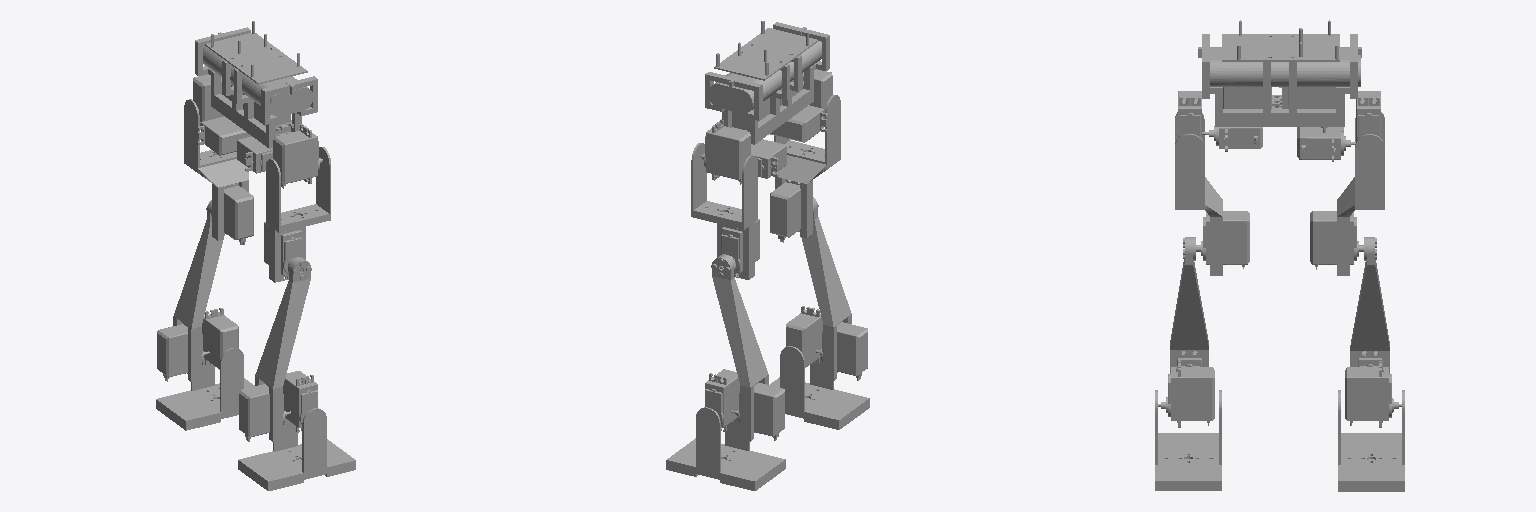
The robot description file, URDF, robot "URDF":
<?xml version="1.0" ?>
<!-- =================================================================================== -->
<!-- |    This document was autogenerated by xacro from urdf/URDF.xacro                | -->
<!-- |    EDITING THIS FILE BY HAND IS NOT RECOMMENDED                                 | -->
<!-- =================================================================================== -->
<robot xmlns:xacro="http://www.ros.org/wiki/xacro" name="URDF">
  <material name="silver">
    <color rgba="0.700 0.700 0.700 1.000"/>
  </material>
  <transmission name="Revolute 46_tran">
    <type>transmission_interface/SimpleTransmission</type>
    <joint name="Revolute 46">
      <hardwareInterface>hardware_interface/EffortJointInterface</hardwareInterface>
    </joint>
    <actuator name="Revolute 46_actr">
      <hardwareInterface>hardware_interface/EffortJointInterface</hardwareInterface>
      <mechanicalReduction>1</mechanicalReduction>
    </actuator>
  </transmission>
  <transmission name="Revolute 54_tran">
    <type>transmission_interface/SimpleTransmission</type>
    <joint name="Revolute 54">
      <hardwareInterface>hardware_interface/EffortJointInterface</hardwareInterface>
    </joint>
    <actuator name="Revolute 54_actr">
      <hardwareInterface>hardware_interface/EffortJointInterface</hardwareInterface>
      <mechanicalReduction>1</mechanicalReduction>
    </actuator>
  </transmission>
  <transmission name="Revolute 66_tran">
    <type>transmission_interface/SimpleTransmission</type>
    <joint name="Revolute 66">
      <hardwareInterface>hardware_interface/EffortJointInterface</hardwareInterface>
    </joint>
    <actuator name="Revolute 66_actr">
      <hardwareInterface>hardware_interface/EffortJointInterface</hardwareInterface>
      <mechanicalReduction>1</mechanicalReduction>
    </actuator>
  </transmission>
  <transmission name="Revolute 67_tran">
    <type>transmission_interface/SimpleTransmission</type>
    <joint name="Revolute 67">
      <hardwareInterface>hardware_interface/EffortJointInterface</hardwareInterface>
    </joint>
    <actuator name="Revolute 67_actr">
      <hardwareInterface>hardware_interface/EffortJointInterface</hardwareInterface>
      <mechanicalReduction>1</mechanicalReduction>
    </actuator>
  </transmission>
  <transmission name="Revolute 68_tran">
    <type>transmission_interface/SimpleTransmission</type>
    <joint name="Revolute 68">
      <hardwareInterface>hardware_interface/EffortJointInterface</hardwareInterface>
    </joint>
    <actuator name="Revolute 68_actr">
      <hardwareInterface>hardware_interface/EffortJointInterface</hardwareInterface>
      <mechanicalReduction>1</mechanicalReduction>
    </actuator>
  </transmission>
  <transmission name="Revolute 69_tran">
    <type>transmission_interface/SimpleTransmission</type>
    <joint name="Revolute 69">
      <hardwareInterface>hardware_interface/EffortJointInterface</hardwareInterface>
    </joint>
    <actuator name="Revolute 69_actr">
      <hardwareInterface>hardware_interface/EffortJointInterface</hardwareInterface>
      <mechanicalReduction>1</mechanicalReduction>
    </actuator>
  </transmission>
  <transmission name="Revolute 70_tran">
    <type>transmission_interface/SimpleTransmission</type>
    <joint name="Revolute 70">
      <hardwareInterface>hardware_interface/EffortJointInterface</hardwareInterface>
    </joint>
    <actuator name="Revolute 70_actr">
      <hardwareInterface>hardware_interface/EffortJointInterface</hardwareInterface>
      <mechanicalReduction>1</mechanicalReduction>
    </actuator>
  </transmission>
  <transmission name="Revolute 71_tran">
    <type>transmission_interface/SimpleTransmission</type>
    <joint name="Revolute 71">
      <hardwareInterface>hardware_interface/EffortJointInterface</hardwareInterface>
    </joint>
    <actuator name="Revolute 71_actr">
      <hardwareInterface>hardware_interface/EffortJointInterface</hardwareInterface>
      <mechanicalReduction>1</mechanicalReduction>
    </actuator>
  </transmission>
  <transmission name="Revolute 72_tran">
    <type>transmission_interface/SimpleTransmission</type>
    <joint name="Revolute 72">
      <hardwareInterface>hardware_interface/EffortJointInterface</hardwareInterface>
    </joint>
    <actuator name="Revolute 72_actr">
      <hardwareInterface>hardware_interface/EffortJointInterface</hardwareInterface>
      <mechanicalReduction>1</mechanicalReduction>
    </actuator>
  </transmission>
  <transmission name="Revolute 73_tran">
    <type>transmission_interface/SimpleTransmission</type>
    <joint name="Revolute 73">
      <hardwareInterface>hardware_interface/EffortJointInterface</hardwareInterface>
    </joint>
    <actuator name="Revolute 73_actr">
      <hardwareInterface>hardware_interface/EffortJointInterface</hardwareInterface>
      <mechanicalReduction>1</mechanicalReduction>
    </actuator>
  </transmission>
  <transmission name="Revolute 90_tran">
    <type>transmission_interface/SimpleTransmission</type>
    <joint name="Revolute 90">
      <hardwareInterface>hardware_interface/EffortJointInterface</hardwareInterface>
    </joint>
    <actuator name="Revolute 90_actr">
      <hardwareInterface>hardware_interface/EffortJointInterface</hardwareInterface>
      <mechanicalReduction>1</mechanicalReduction>
    </actuator>
  </transmission>
  <transmission name="Revolute 91_tran">
    <type>transmission_interface/SimpleTransmission</type>
    <joint name="Revolute 91">
      <hardwareInterface>hardware_interface/EffortJointInterface</hardwareInterface>
    </joint>
    <actuator name="Revolute 91_actr">
      <hardwareInterface>hardware_interface/EffortJointInterface</hardwareInterface>
      <mechanicalReduction>1</mechanicalReduction>
    </actuator>
  </transmission>
  <transmission name="Revolute 92_tran">
    <type>transmission_interface/SimpleTransmission</type>
    <joint name="Revolute 92">
      <hardwareInterface>hardware_interface/EffortJointInterface</hardwareInterface>
    </joint>
    <actuator name="Revolute 92_actr">
      <hardwareInterface>hardware_interface/EffortJointInterface</hardwareInterface>
      <mechanicalReduction>1</mechanicalReduction>
    </actuator>
  </transmission>
  <transmission name="Revolute 93_tran">
    <type>transmission_interface/SimpleTransmission</type>
    <joint name="Revolute 93">
      <hardwareInterface>hardware_interface/EffortJointInterface</hardwareInterface>
    </joint>
    <actuator name="Revolute 93_actr">
      <hardwareInterface>hardware_interface/EffortJointInterface</hardwareInterface>
      <mechanicalReduction>1</mechanicalReduction>
    </actuator>
  </transmission>
  <gazebo>
    <plugin name="control" filename="libgazebo_ros_control.so"/>
  </gazebo>
  <gazebo reference="base_link">
    <material>Gazebo/Silver</material>
    <mu1>0.2</mu1>
    <mu2>0.2</mu2>
    <selfCollide>true</selfCollide>
    <gravity>true</gravity>
  </gazebo>
  <gazebo reference="l3_1">
    <material>Gazebo/Silver</material>
    <mu1>0.2</mu1>
    <mu2>0.2</mu2>
    <selfCollide>true</selfCollide>
  </gazebo>
  <gazebo reference="r3_1">
    <material>Gazebo/Silver</material>
    <mu1>0.2</mu1>
    <mu2>0.2</mu2>
    <selfCollide>true</selfCollide>
  </gazebo>
  <gazebo reference="l4_1">
    <material>Gazebo/Silver</material>
    <mu1>0.2</mu1>
    <mu2>0.2</mu2>
    <selfCollide>true</selfCollide>
  </gazebo>
  <gazebo reference="l5_1">
    <material>Gazebo/Silver</material>
    <mu1>0.2</mu1>
    <mu2>0.2</mu2>
    <selfCollide>true</selfCollide>
  </gazebo>
  <gazebo reference="l6_1">
    <material>Gazebo/Silver</material>
    <mu1>0.2</mu1>
    <mu2>0.2</mu2>
    <selfCollide>true</selfCollide>
  </gazebo>
  <gazebo reference="l7_1">
    <material>Gazebo/Silver</material>
    <mu1>0.2</mu1>
    <mu2>0.2</mu2>
    <selfCollide>true</selfCollide>
  </gazebo>
  <gazebo reference="r4_1">
    <material>Gazebo/Silver</material>
    <mu1>0.2</mu1>
    <mu2>0.2</mu2>
    <selfCollide>true</selfCollide>
  </gazebo>
  <gazebo reference="r5_1">
    <material>Gazebo/Silver</material>
    <mu1>0.2</mu1>
    <mu2>0.2</mu2>
    <selfCollide>true</selfCollide>
  </gazebo>
  <gazebo reference="r6_1">
    <material>Gazebo/Silver</material>
    <mu1>0.2</mu1>
    <mu2>0.2</mu2>
    <selfCollide>true</selfCollide>
  </gazebo>
  <gazebo reference="r7_1">
    <material>Gazebo/Silver</material>
    <mu1>0.2</mu1>
    <mu2>0.2</mu2>
    <selfCollide>true</selfCollide>
  </gazebo>
  <gazebo reference="r1_1">
    <material>Gazebo/Silver</material>
    <mu1>0.2</mu1>
    <mu2>0.2</mu2>
    <selfCollide>true</selfCollide>
  </gazebo>
  <gazebo reference="l1_1">
    <material>Gazebo/Silver</material>
    <mu1>0.2</mu1>
    <mu2>0.2</mu2>
    <selfCollide>true</selfCollide>
  </gazebo>
  <gazebo reference="l2_1">
    <material>Gazebo/Silver</material>
    <mu1>0.2</mu1>
    <mu2>0.2</mu2>
    <selfCollide>true</selfCollide>
  </gazebo>
  <gazebo reference="r2_1">
    <material>Gazebo/Silver</material>
    <mu1>0.2</mu1>
    <mu2>0.2</mu2>
    <selfCollide>true</selfCollide>
  </gazebo>
  <link name="base_link">
    <inertial>
      <origin xyz="-0.011771950657531978 0.009504064144813888 0.36652745045672347" rpy="0 0 0"/>
      <mass value="1.511497628813241"/>
      <inertia ixx="0.002624" iyy="0.000685" izz="0.00252" ixy="-0.0" iyz="-1e-05" ixz="-1e-06"/>
    </inertial>
    <visual>
      <origin xyz="0 0 0" rpy="0 0 0"/>
      <geometry>
        <mesh filename="package://URDF_description/meshes/base_link.stl" scale="0.001 0.001 0.001"/>
      </geometry>
      <material name="silver"/>
    </visual>
    <collision>
      <origin xyz="0 0 0" rpy="0 0 0"/>
      <geometry>
        <mesh filename="package://URDF_description/meshes/base_link.stl" scale="0.001 0.001 0.001"/>
      </geometry>
    </collision>
  </link>
  <link name="l3_1">
    <inertial>
      <origin xyz="-0.0010554319034483655 -0.010177955025813722 0.0099605153071331" rpy="0 0 0"/>
      <mass value="0.2605710862815951"/>
      <inertia ixx="4.6e-05" iyy="7.1e-05" izz="4.2e-05" ixy="0.0" iyz="-0.0" ixz="1e-06"/>
    </inertial>
    <visual>
      <origin xyz="0.01125 0.056859 -0.300753" rpy="0 0 0"/>
      <geometry>
        <mesh filename="package://URDF_description/meshes/l3_1.stl" scale="0.001 0.001 0.001"/>
      </geometry>
      <material name="silver"/>
    </visual>
    <collision>
      <origin xyz="0.01125 0.056859 -0.300753" rpy="0 0 0"/>
      <geometry>
        <mesh filename="package://URDF_description/meshes/l3_1.stl" scale="0.001 0.001 0.001"/>
      </geometry>
    </collision>
  </link>
  <link name="r3_1">
    <inertial>
      <origin xyz="-0.0013721079730043672 0.010183257082741967 0.009960041415219167" rpy="0 0 0"/>
      <mass value="0.26058347817133687"/>
      <inertia ixx="4.6e-05" iyy="7.1e-05" izz="4.2e-05" ixy="-0.0" iyz="0.0" ixz="1e-06"/>
    </inertial>
    <visual>
      <origin xyz="0.010932 -0.07264 -0.300746" rpy="0 0 0"/>
      <geometry>
        <mesh filename="package://URDF_description/meshes/r3_1.stl" scale="0.001 0.001 0.001"/>
      </geometry>
      <material name="silver"/>
    </visual>
    <collision>
      <origin xyz="0.010932 -0.07264 -0.300746" rpy="0 0 0"/>
      <geometry>
        <mesh filename="package://URDF_description/meshes/r3_1.stl" scale="0.001 0.001 0.001"/>
      </geometry>
    </collision>
  </link>
  <link name="l4_1">
    <inertial>
      <origin xyz="-0.025108010465582926 0.020534482343403035 -0.07938553469074466" rpy="0 0 0"/>
      <mass value="0.4795683297989441"/>
      <inertia ixx="0.0005" iyy="0.000461" izz="0.000198" ixy="-3e-06" iyz="0.000142" ixz="6e-06"/>
    </inertial>
    <visual>
      <origin xyz="-0.015754 0.067037 -0.300753" rpy="0 0 0"/>
      <geometry>
        <mesh filename="package://URDF_description/meshes/l4_1.stl" scale="0.001 0.001 0.001"/>
      </geometry>
      <material name="silver"/>
    </visual>
    <collision>
      <origin xyz="-0.015754 0.067037 -0.300753" rpy="0 0 0"/>
      <geometry>
        <mesh filename="package://URDF_description/meshes/l4_1.stl" scale="0.001 0.001 0.001"/>
      </geometry>
    </collision>
  </link>
  <link name="l5_1">
    <inertial>
      <origin xyz="-0.029491082579912755 0.0039567541577458926 -0.1016008471361324" rpy="0 0 0"/>
      <mass value="0.5723786894338777"/>
      <inertia ixx="0.001158" iyy="0.001268" izz="0.00017" ixy="1e-06" iyz="2e-06" ixz="-0.000323"/>
    </inertial>
    <visual>
      <origin xyz="0.009024 0.071577 -0.195159" rpy="0 0 0"/>
      <geometry>
        <mesh filename="package://URDF_description/meshes/l5_1.stl" scale="0.001 0.001 0.001"/>
      </geometry>
      <material name="silver"/>
    </visual>
    <collision>
      <origin xyz="0.009024 0.071577 -0.195159" rpy="0 0 0"/>
      <geometry>
        <mesh filename="package://URDF_description/meshes/l5_1.stl" scale="0.001 0.001 0.001"/>
      </geometry>
    </collision>
  </link>
  <link name="l6_1">
    <inertial>
      <origin xyz="0.010148909868078046 0.0014454123231728566 0.009960061611517447" rpy="0 0 0"/>
      <mass value="0.260583085238151"/>
      <inertia ixx="7.1e-05" iyy="4.6e-05" izz="4.2e-05" ixy="0.0" iyz="-1e-06" ixz="0.0"/>
    </inertial>
    <visual>
      <origin xyz="0.018503 0.067568 -0.050454" rpy="0 0 0"/>
      <geometry>
        <mesh filename="package://URDF_description/meshes/l6_1.stl" scale="0.001 0.001 0.001"/>
      </geometry>
      <material name="silver"/>
    </visual>
    <collision>
      <origin xyz="0.018503 0.067568 -0.050454" rpy="0 0 0"/>
      <geometry>
        <mesh filename="package://URDF_description/meshes/l6_1.stl" scale="0.001 0.001 0.001"/>
      </geometry>
    </collision>
  </link>
  <link name="l7_1">
    <inertial>
      <origin xyz="-0.0038360250370360807 0.0260878632088187 -0.050533848086451186" rpy="0 0 0"/>
      <mass value="0.42535185084301863"/>
      <inertia ixx="0.000201" iyy="0.000374" izz="0.000441" ixy="-0.0" iyz="-0.0" ixz="-5e-06"/>
    </inertial>
    <visual>
      <origin xyz="0.008354 0.094498 -0.050454" rpy="0 0 0"/>
      <geometry>
        <mesh filename="package://URDF_description/meshes/l7_1.stl" scale="0.001 0.001 0.001"/>
      </geometry>
      <material name="silver"/>
    </visual>
    <collision>
      <origin xyz="0.008354 0.094498 -0.050454" rpy="0 0 0"/>
      <geometry>
        <mesh filename="package://URDF_description/meshes/l7_1.stl" scale="0.001 0.001 0.001"/>
      </geometry>
    </collision>
  </link>
  <link name="r4_1">
    <inertial>
      <origin xyz="-0.025086134509350884 -0.019584458432278365 -0.07938591030825276" rpy="0 0 0"/>
      <mass value="0.4795660415586759"/>
      <inertia ixx="0.0005" iyy="0.000461" izz="0.000198" ixy="3e-06" iyz="-0.000142" ixz="6e-06"/>
    </inertial>
    <visual>
      <origin xyz="-0.016072 -0.082823 -0.300746" rpy="0 0 0"/>
      <geometry>
        <mesh filename="package://URDF_description/meshes/r4_1.stl" scale="0.001 0.001 0.001"/>
      </geometry>
      <material name="silver"/>
    </visual>
    <collision>
      <origin xyz="-0.016072 -0.082823 -0.300746" rpy="0 0 0"/>
      <geometry>
        <mesh filename="package://URDF_description/meshes/r4_1.stl" scale="0.001 0.001 0.001"/>
      </geometry>
    </collision>
  </link>
  <link name="r5_1">
    <inertial>
      <origin xyz="-0.029491076838213486 -0.003956632577475125 -0.10160079326267875" rpy="0 0 0"/>
      <mass value="0.5723780660401575"/>
      <inertia ixx="0.001158" iyy="0.001268" izz="0.00017" ixy="-1e-06" iyz="-2e-06" ixz="-0.000323"/>
    </inertial>
    <visual>
      <origin xyz="0.008684 -0.088313 -0.195152" rpy="0 0 0"/>
      <geometry>
        <mesh filename="package://URDF_description/meshes/r5_1.stl" scale="0.001 0.001 0.001"/>
      </geometry>
      <material name="silver"/>
    </visual>
    <collision>
      <origin xyz="0.008684 -0.088313 -0.195152" rpy="0 0 0"/>
      <geometry>
        <mesh filename="package://URDF_description/meshes/r5_1.stl" scale="0.001 0.001 0.001"/>
      </geometry>
    </collision>
  </link>
  <link name="r6_1">
    <inertial>
      <origin xyz="0.010216801636088587 -0.0014452836669609503 0.009959962708194117" rpy="0 0 0"/>
      <mass value="0.26058568857338693"/>
      <inertia ixx="7.1e-05" iyy="4.6e-05" izz="4.2e-05" ixy="-0.0" iyz="1e-06" ixz="0.0"/>
    </inertial>
    <visual>
      <origin xyz="0.018163 -0.084304 -0.050447" rpy="0 0 0"/>
      <geometry>
        <mesh filename="package://URDF_description/meshes/r6_1.stl" scale="0.001 0.001 0.001"/>
      </geometry>
      <material name="silver"/>
    </visual>
    <collision>
      <origin xyz="0.018163 -0.084304 -0.050447" rpy="0 0 0"/>
      <geometry>
        <mesh filename="package://URDF_description/meshes/r6_1.stl" scale="0.001 0.001 0.001"/>
      </geometry>
    </collision>
  </link>
  <link name="r7_1">
    <inertial>
      <origin xyz="-0.003836011886673152 -0.025999620351597932 -0.050533600876661144" rpy="0 0 0"/>
      <mass value="0.42535393165731183"/>
      <inertia ixx="0.000201" iyy="0.000374" izz="0.000441" ixy="0.0" iyz="0.0" ixz="-5e-06"/>
    </inertial>
    <visual>
      <origin xyz="0.007946 -0.111234 -0.050447" rpy="0 0 0"/>
      <geometry>
        <mesh filename="package://URDF_description/meshes/r7_1.stl" scale="0.001 0.001 0.001"/>
      </geometry>
      <material name="silver"/>
    </visual>
    <collision>
      <origin xyz="0.007946 -0.111234 -0.050447" rpy="0 0 0"/>
      <geometry>
        <mesh filename="package://URDF_description/meshes/r7_1.stl" scale="0.001 0.001 0.001"/>
      </geometry>
    </collision>
  </link>
  <link name="r1_1">
    <inertial>
      <origin xyz="0.0004996878831269973 0.02734500634448242 0.00896780014474241" rpy="0 0 0"/>
      <mass value="0.260645951134301"/>
      <inertia ixx="7.1e-05" iyy="4.2e-05" izz="4.6e-05" ixy="0.0" iyz="1e-06" ixz="0.0"/>
    </inertial>
    <visual>
      <origin xyz="0.011804 -0.008368 -0.332395" rpy="0 0 0"/>
      <geometry>
        <mesh filename="package://URDF_description/meshes/r1_1.stl" scale="0.001 0.001 0.001"/>
      </geometry>
      <material name="silver"/>
    </visual>
    <collision>
      <origin xyz="0.011804 -0.008368 -0.332395" rpy="0 0 0"/>
      <geometry>
        <mesh filename="package://URDF_description/meshes/r1_1.stl" scale="0.001 0.001 0.001"/>
      </geometry>
    </collision>
  </link>
  <link name="l1_1">
    <inertial>
      <origin xyz="0.0001816438125570169 -0.0273436447861984 0.008967326406254417" rpy="0 0 0"/>
      <mass value="0.260658112795213"/>
      <inertia ixx="7.1e-05" iyy="4.2e-05" izz="4.6e-05" ixy="-0.0" iyz="-1e-06" ixz="0.0"/>
    </inertial>
    <visual>
      <origin xyz="0.011804 -0.008368 -0.332395" rpy="0 0 0"/>
      <geometry>
        <mesh filename="package://URDF_description/meshes/l1_1.stl" scale="0.001 0.001 0.001"/>
      </geometry>
      <material name="silver"/>
    </visual>
    <collision>
      <origin xyz="0.011804 -0.008368 -0.332395" rpy="0 0 0"/>
      <geometry>
        <mesh filename="package://URDF_description/meshes/l1_1.stl" scale="0.001 0.001 0.001"/>
      </geometry>
    </collision>
  </link>
  <link name="l2_1">
    <inertial>
      <origin xyz="-0.009584482225170093 0.002892011357412988 -0.010242130854528853" rpy="0 0 0"/>
      <mass value="0.2606766909017712"/>
      <inertia ixx="4.2e-05" iyy="4.6e-05" izz="7.1e-05" ixy="1e-06" iyz="-0.0" ixz="0.0"/>
    </inertial>
    <visual>
      <origin xyz="0.011622 0.028932 -0.310995" rpy="0 0 0"/>
      <geometry>
        <mesh filename="package://URDF_description/meshes/l2_1.stl" scale="0.001 0.001 0.001"/>
      </geometry>
      <material name="silver"/>
    </visual>
    <collision>
      <origin xyz="0.011622 0.028932 -0.310995" rpy="0 0 0"/>
      <geometry>
        <mesh filename="package://URDF_description/meshes/l2_1.stl" scale="0.001 0.001 0.001"/>
      </geometry>
    </collision>
  </link>
  <link name="r2_1">
    <inertial>
      <origin xyz="-0.00958582114085108 -0.0028961550072031106 -0.010249054751743758" rpy="0 0 0"/>
      <mass value="0.2606418768017664"/>
      <inertia ixx="4.2e-05" iyy="4.6e-05" izz="7.1e-05" ixy="-1e-06" iyz="0.0" ixz="0.0"/>
    </inertial>
    <visual>
      <origin xyz="0.011304 -0.045668 -0.310995" rpy="0 0 0"/>
      <geometry>
        <mesh filename="package://URDF_description/meshes/r2_1.stl" scale="0.001 0.001 0.001"/>
      </geometry>
      <material name="silver"/>
    </visual>
    <collision>
      <origin xyz="0.011304 -0.045668 -0.310995" rpy="0 0 0"/>
      <geometry>
        <mesh filename="package://URDF_description/meshes/r2_1.stl" scale="0.001 0.001 0.001"/>
      </geometry>
    </collision>
  </link>
  <joint name="Revolute 46" type="continuous">
    <origin xyz="0.000372 -0.027927 -0.010242" rpy="0 0 0"/>
    <parent link="l2_1"/>
    <child link="l3_1"/>
    <axis xyz="-0.0 -1.0 -0.0"/>
  </joint>
  <joint name="Revolute 54" type="continuous">
    <origin xyz="0.000372 0.026972 -0.010249" rpy="0 0 0"/>
    <parent link="r2_1"/>
    <child link="r3_1"/>
    <axis xyz="-0.0 1.0 0.0"/>
  </joint>
  <joint name="Revolute 66" type="continuous">
    <origin xyz="0.027004 -0.010178 0.0" rpy="0 0 0"/>
    <parent link="l3_1"/>
    <child link="l4_1"/>
    <axis xyz="1.0 0.0 -0.0"/>
  </joint>
  <joint name="Revolute 67" type="continuous">
    <origin xyz="-0.024778 -0.00454 -0.105594" rpy="0 0 0"/>
    <parent link="l4_1"/>
    <child link="l5_1"/>
    <axis xyz="-0.0 -1.0 -0.0"/>
  </joint>
  <joint name="Revolute 68" type="continuous">
    <origin xyz="-0.009479 0.004009 -0.144705" rpy="0 0 0"/>
    <parent link="l5_1"/>
    <child link="l6_1"/>
    <axis xyz="1.0 0.0 0.0"/>
  </joint>
  <joint name="Revolute 69" type="continuous">
    <origin xyz="0.010149 -0.02693 0.0" rpy="0 0 0"/>
    <parent link="l6_1"/>
    <child link="l7_1"/>
    <axis xyz="0.0 -1.0 -0.0"/>
  </joint>
  <joint name="Revolute 70" type="continuous">
    <origin xyz="0.027004 0.010183 0.0" rpy="0 0 0"/>
    <parent link="r3_1"/>
    <child link="r4_1"/>
    <axis xyz="1.0 0.0 -0.0"/>
  </joint>
  <joint name="Revolute 71" type="continuous">
    <origin xyz="-0.024756 0.00549 -0.105594" rpy="0 0 0"/>
    <parent link="r4_1"/>
    <child link="r5_1"/>
    <axis xyz="-0.0 1.0 0.0"/>
  </joint>
  <joint name="Revolute 72" type="continuous">
    <origin xyz="-0.009479 -0.004009 -0.144705" rpy="0 0 0"/>
    <parent link="r5_1"/>
    <child link="r6_1"/>
    <axis xyz="1.0 0.0 -0.0"/>
  </joint>
  <joint name="Revolute 73" type="continuous">
    <origin xyz="0.010217 0.02693 0.0" rpy="0 0 0"/>
    <parent link="r6_1"/>
    <child link="r7_1"/>
    <axis xyz="-0.0 1.0 0.0"/>
  </joint>
  <joint name="Revolute 90" type="continuous">
    <origin xyz="-0.011804 0.008368 0.332395" rpy="0 0 0"/>
    <parent link="base_link"/>
    <child link="r1_1"/>
    <axis xyz="0.0 -0.0 1.0"/>
  </joint>
  <joint name="Revolute 91" type="continuous">
    <origin xyz="-0.011804 0.008368 0.332395" rpy="0 0 0"/>
    <parent link="base_link"/>
    <child link="l1_1"/>
    <axis xyz="0.0 -0.0 1.0"/>
  </joint>
  <joint name="Revolute 92" type="continuous">
    <origin xyz="0.000182 -0.0373 -0.0214" rpy="0 0 0"/>
    <parent link="l1_1"/>
    <child link="l2_1"/>
    <axis xyz="-0.0 0.0 -1.0"/>
  </joint>
  <joint name="Revolute 93" type="continuous">
    <origin xyz="0.0005 0.0373 -0.0214" rpy="0 0 0"/>
    <parent link="r1_1"/>
    <child link="r2_1"/>
    <axis xyz="-0.0 0.0 -1.0"/>
  </joint>
</robot>

--- Facts derived from the render (not from the file) ---
3 views of the same robot in one strip: view 1: azimuth 30°, elevation 25°; view 2: azimuth 150°, elevation 25°; view 3: azimuth 270°, elevation 25° (orthographic).
Robot: URDF — 15 links, 14 joints (14 continuous); root link base_link; default pose: every joint at zero.
Visible links, largest first — view 1: base_link, l5_1, r5_1, l7_1, r4_1, l4_1, r7_1, l3_1, r6_1, l6_1, r2_1, l2_1 (+1 smaller); view 2: base_link, r5_1, l5_1, r7_1, l4_1, r4_1, l7_1, r3_1, l6_1, r6_1, l2_1, r2_1 (+1 smaller); view 3: base_link, l4_1, r4_1, r7_1, l7_1, r5_1, l5_1, l6_1, r6_1, r2_1, l2_1, r3_1 (+1 smaller).
Link boxes in pixels (left/top/right/bottom): base_link: left=195, top=21, right=317, bottom=148; l5_1: left=239, top=257, right=311, bottom=441; r5_1: left=157, top=200, right=224, bottom=381; l7_1: left=238, top=408, right=355, bottom=490; r4_1: left=184, top=99, right=253, bottom=244; l4_1: left=264, top=147, right=330, bottom=282; r7_1: left=156, top=348, right=254, bottom=430; l3_1: left=273, top=124, right=322, bottom=188; r6_1: left=202, top=308, right=238, bottom=369; l6_1: left=283, top=371, right=317, bottom=432; r2_1: left=197, top=116, right=250, bottom=155; l2_1: left=237, top=136, right=272, bottom=173; base_link: left=705, top=21, right=829, bottom=144; r5_1: left=711, top=254, right=784, bottom=441; l5_1: left=801, top=197, right=867, bottom=380; r7_1: left=666, top=407, right=785, bottom=490; l4_1: left=770, top=95, right=840, bottom=242; r4_1: left=691, top=143, right=759, bottom=279; l7_1: left=770, top=346, right=869, bottom=429; r3_1: left=700, top=119, right=750, bottom=184; l6_1: left=786, top=306, right=822, bottom=367; r6_1: left=705, top=369, right=739, bottom=431; l2_1: left=770, top=105, right=827, bottom=142; r2_1: left=751, top=139, right=786, bottom=178; base_link: left=1198, top=20, right=1361, bottom=127; l4_1: left=1175, top=112, right=1249, bottom=275; r4_1: left=1310, top=112, right=1384, bottom=275; r7_1: left=1338, top=390, right=1404, bottom=491; l7_1: left=1155, top=390, right=1221, bottom=490; r5_1: left=1350, top=237, right=1389, bottom=373; l5_1: left=1170, top=237, right=1208, bottom=373; l6_1: left=1158, top=360, right=1214, bottom=427; r6_1: left=1345, top=361, right=1401, bottom=427; r2_1: left=1297, top=127, right=1355, bottom=161; l2_1: left=1202, top=126, right=1262, bottom=151; r3_1: left=1356, top=91, right=1380, bottom=141.
Size in the robot's own frame: 0.105 by 0.2096 by 0.403 metres.
Meshes: 15 distinct files referenced, 15 mesh visuals loaded (15 binary STL).